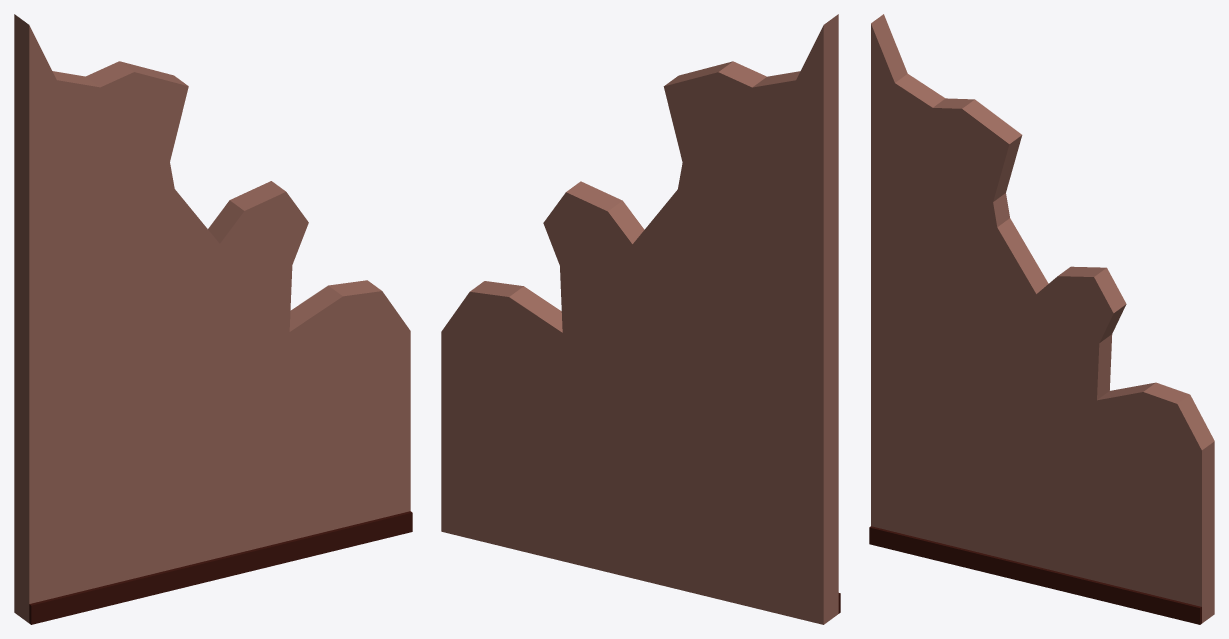
3 views of the same model, side by side, from view 1: azimuth 30°, elevation 25°; view 2: azimuth 150°, elevation 25°; view 3: azimuth 330°, elevation 25° (orthographic). The views are drawn at different scales.
Visible parts, largest first — view 1: TM5; view 2: TM5; view 3: TM5.
Boxes of the visible parts, x1,y1,x2,y2 form: TM5: (14,14,412,624); TM5: (441,14,840,624); TM5: (869,14,1214,624).
Bounding box in the file's own units: 200 × 300 × 15.31.
